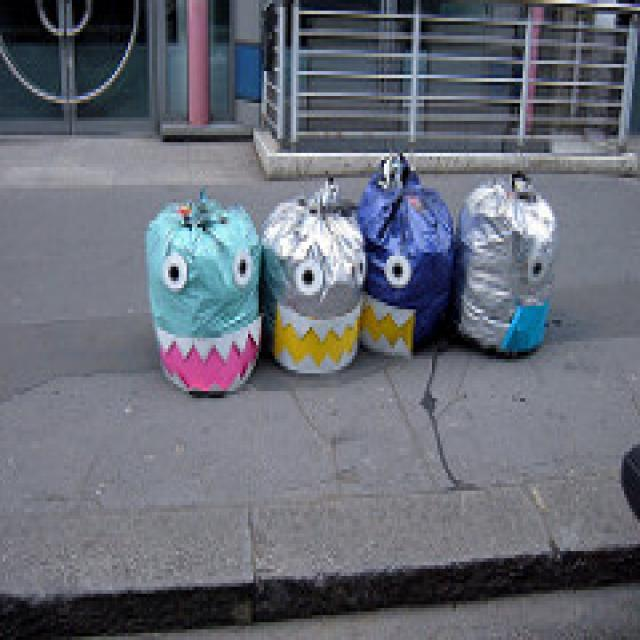plastic: (127, 177, 258, 398), (462, 165, 559, 361), (264, 180, 358, 376), (364, 151, 448, 362)
